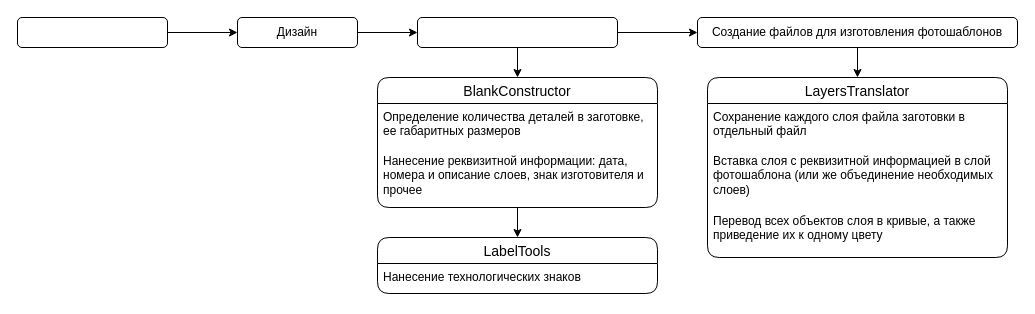
The diagram is 1035 pixels wide and 314 high, and some of its shapes have lost their labels. Here are the shapes that lost their labels. From the top down, the centre of each, then its label:
[92,32]: Согласование дизайна
[517,32]: Разработка заготовки
